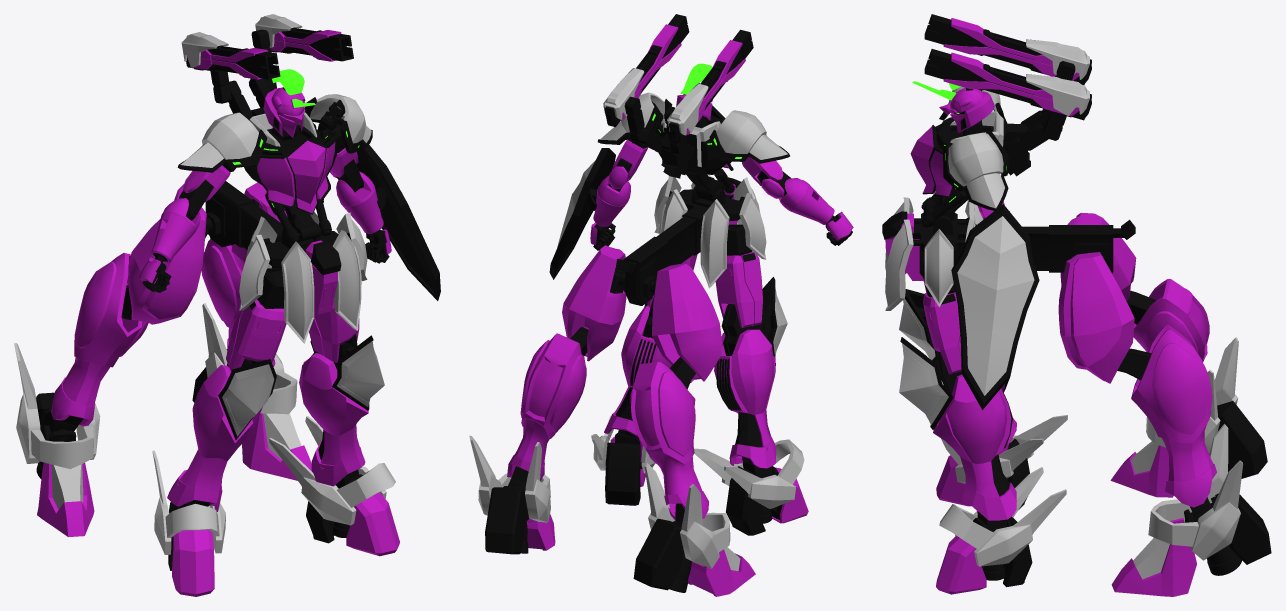
Rendered from Caballero_FBX.fbx.
3 views of the same model, side by side, from view 1: azimuth 30°, elevation 25°; view 2: azimuth 150°, elevation 25°; view 3: azimuth 270°, elevation 25° (orthographic). The views are drawn at different scales.
Parts seen in each view (by area): view 1: Box433, Pierna_Delantera_Gemelo005, Pierna_Delantera_Gemelo006, Box431, Box388, Box402, Box439, Rectangle004, Box437, Box421, Box400, Box426 (+37 smaller); view 2: Box433, Box391, Pierna_Delantera_Gemelo006, Box431, Rectangle004, Box390, Box439, Box424, Box421, Box438, Box392, Box396 (+34 smaller); view 3: Box391, interior escudo001, Box390, Pierna_Delantera_Gemelo005, Box392, Rectangle004, Box402, Box400, Box433, Box388, Box438, Box437 (+35 smaller).
Part boxes in pixels (<box>): Box433: <box>51,253,148,426</box>; Pierna_Delantera_Gemelo005: <box>299,353,368,486</box>; Pierna_Delantera_Gemelo006: <box>167,365,262,511</box>; Box431: <box>128,207,206,324</box>; Box388: <box>356,145,440,300</box>; Box402: <box>269,416,395,525</box>; Box439: <box>14,343,100,469</box>; Rectangle004: <box>205,181,351,268</box>; Box437: <box>37,462,94,536</box>; Box421: <box>226,299,286,371</box>; Box400: <box>242,413,311,480</box>; Box426: <box>172,529,214,596</box>; Box433: <box>630,361,708,520</box>; Box391: <box>507,333,586,480</box>; Pierna_Delantera_Gemelo006: <box>714,329,776,468</box>; Box431: <box>652,263,722,382</box>; Rectangle004: <box>616,189,744,305</box>; Box390: <box>562,245,626,361</box>; Box439: <box>644,462,730,568</box>; Box424: <box>694,439,804,508</box>; Box421: <box>715,252,762,327</box>; Box438: <box>633,518,683,590</box>; Box392: <box>469,435,550,522</box>; Box396: <box>485,487,525,554</box>; Box391: <box>1131,324,1216,507</box>; interior escudo001: <box>957,216,1034,395</box>; Box390: <box>1058,252,1134,383</box>; Pierna_Delantera_Gemelo005: <box>933,374,1016,520</box>; Box392: <box>1148,423,1243,560</box>; Rectangle004: <box>912,213,1135,277</box>; Box402: <box>939,467,1066,566</box>; Box400: <box>1111,518,1196,596</box>; Box433: <box>1133,279,1209,361</box>; Box388: <box>951,204,1039,409</box>; Box438: <box>1217,401,1267,478</box>; Box437: <box>1110,441,1173,497</box>.
Size of what is drawn, in the model's own units: 1091 by 1727 by 1182.
